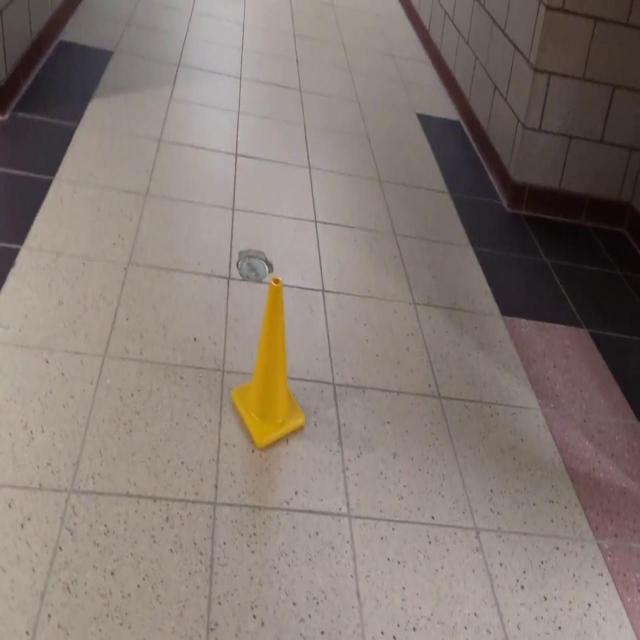frc_cone: (230, 276, 306, 452)
